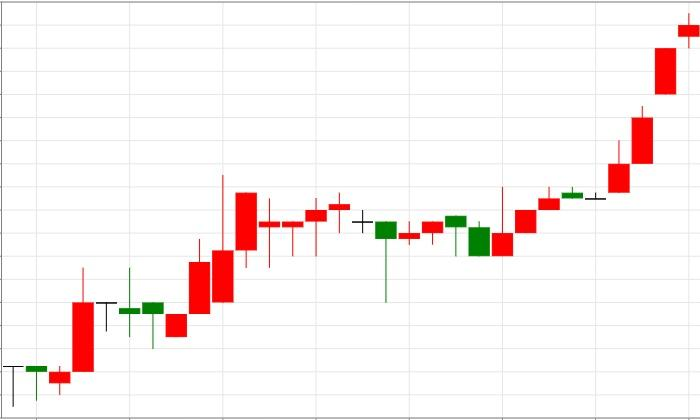three_white_soldiers_rise: (328, 185, 561, 302)
